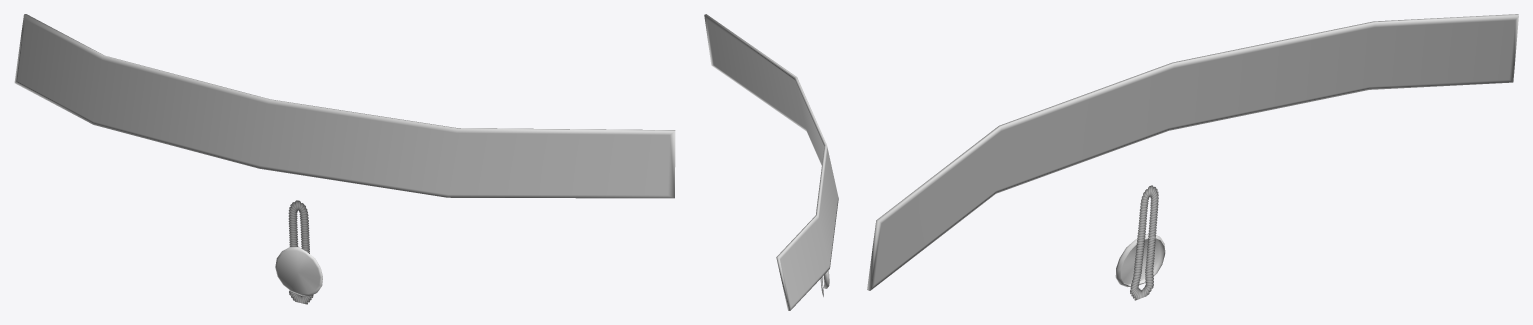
The model's file is single_welted_pocket_with_button.glb.
The picture shows the model from 3 angles, left to right: view 1: azimuth 30°, elevation 25°; view 2: azimuth 150°, elevation 25°; view 3: azimuth 270°, elevation 25°; orthographic projection. The views are drawn at different scales.
Visible parts, largest first — view 1: SM_T_Right_welted_pocket, SM_T_B_Right_pocket_without welted; view 2: SM_T_Right_welted_pocket, SM_T_B_Right_pocket_without welted; view 3: SM_T_Right_welted_pocket, SM_T_B_Right_pocket_without welted.
Part boxes in pixels (x1,y1,x2,y2): SM_T_Right_welted_pocket: (14, 14, 675, 198); SM_T_B_Right_pocket_without welted: (275, 200, 322, 304); SM_T_Right_welted_pocket: (704, 14, 838, 310); SM_T_B_Right_pocket_without welted: (820, 270, 829, 296); SM_T_Right_welted_pocket: (867, 14, 1518, 290); SM_T_B_Right_pocket_without welted: (1115, 185, 1165, 300).
Bounding box in the file's own units: 0.4619 × 0.2303 × 0.5977.
Materials: 3 (1 with a texture image).
